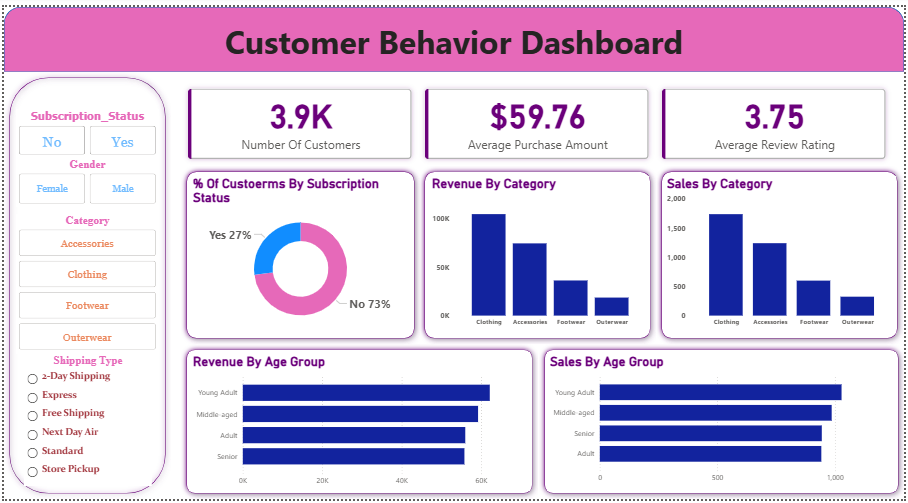

This screenshot's page, from the dashboard's own definition file:
{"tool":"powerbi","page":{"name":"Page 1","canvas":[1500,820],"ordinal":0},"visuals":[{"type":"cardVisual","fields":{"Data":["public customer.Number Of Customers","public customer.Average Purchase Amount","public customer.Average Review Rating"]},"box":[278.3,108.3,1221.7,173.3],"z":0},{"type":"shape","box":[0,0,1500,108.3],"z":1000},{"type":"textbox","box":[0,15,1500,93.3],"z":2000},{"type":"shape","box":[295,265,398.3,296.7],"z":3000,"group":"g5"},{"type":"donutChart","title":"% Of Custoerms By Subscription Status ","fields":{"Category":["public customer.subscription_status"],"Y":["CountNonNull(public customer.customer_id)"]},"box":[310,281.7,368.3,261.7],"z":4000,"group":"g5"},{"type":"shape","box":[691.7,265,395,296.7],"z":5000,"group":"g4"},{"type":"shape","box":[1086.7,265,411.7,296.7],"z":6000,"group":"g3"},{"type":"clusteredColumnChart","title":"Sales By Category ","fields":{"Y":["CountNonNull(public customer.customer_id)"],"Category":["public customer.category"]},"box":[1100,281.7,386.7,261.7],"z":7000,"group":"g3"},{"type":"clusteredColumnChart","title":"Revenue By Category ","fields":{"Y":["Sum(public customer.purchase_amount)"],"Category":["public customer.category"]},"box":[708.4,281.7,366.7,261.7],"z":8000,"group":"g4"},{"type":"shape","box":[0,108.3,278.3,711.7],"z":9000},{"type":"advancedSlicerVisual","fields":{"Values":["public customer.subscription_status"]},"box":[20,170,238.3,81.7],"z":10000},{"type":"advancedSlicerVisual","fields":{"Values":["public customer.gender"]},"box":[20,251.7,238.3,81.7],"z":11000},{"type":"advancedSlicerVisual","fields":{"Values":["public customer.category"]},"box":[20,345,238.3,233.3],"z":12000},{"type":"listSlicer","title":"Shipping Type","fields":{"Values":["public customer.shipping_type"]},"box":[33.3,578.3,213.3,220],"z":13000},{"type":"shape","box":[295,561.7,595,258.3],"z":15000,"group":"g1"},{"type":"shape","box":[891.7,561.7,608.3,258.3],"z":16000,"group":"g2"},{"type":"clusteredBarChart","title":"Sales By Age Group","fields":{"Y":["CountNonNull(public customer.customer_id)"],"Category":["public customer.age_group"]},"box":[905,578.4,578.3,223.3],"z":17000,"group":"g2"},{"type":"clusteredBarChart","title":"Revenue By Age Group","fields":{"Y":["Sum(public customer.purchase_amount)"],"Category":["public customer.age_group"]},"box":[310,578.4,566.7,228.3],"z":17500,"group":"g1"},{"type":"group","id":"g1","title":"Group 1","box":[295,561.7,595,258.3],"z":17501},{"type":"group","id":"g2","title":"Group 2","box":[891.7,561.7,608.3,258.3],"z":17502},{"type":"group","id":"g3","title":"Group 3","box":[1086.7,265,411.7,296.7],"z":17503},{"type":"group","id":"g4","title":"Group 4","box":[691.7,265,395,296.7],"z":17504},{"type":"group","id":"g5","title":"Group 5","box":[295,265,398.3,296.7],"z":17505}]}

Visuals, with their boxes in screenshot pixels (x1, y1, x2, y2), scaled from the page's 1500x820 canvas onto the 908x503 screenshot:
cardVisual - public customer.Number Of Customers x public customer.Average Purchase Amount: [x1=168, y1=66, x2=907, y2=173]
shape: [x1=0, y1=0, x2=907, y2=66]
textbox: [x1=0, y1=9, x2=907, y2=66]
shape: [x1=179, y1=163, x2=420, y2=345]
"% Of Custoerms By Subscription Status " donutChart: [x1=188, y1=173, x2=411, y2=333]
shape: [x1=419, y1=163, x2=658, y2=345]
shape: [x1=658, y1=163, x2=907, y2=345]
"Sales By Category " clusteredColumnChart: [x1=666, y1=173, x2=900, y2=333]
"Revenue By Category " clusteredColumnChart: [x1=429, y1=173, x2=651, y2=333]
shape: [x1=0, y1=66, x2=168, y2=502]
advancedSlicerVisual - public customer.subscription_status: [x1=12, y1=104, x2=156, y2=154]
advancedSlicerVisual - public customer.gender: [x1=12, y1=154, x2=156, y2=205]
advancedSlicerVisual - public customer.category: [x1=12, y1=212, x2=156, y2=355]
"Shipping Type" listSlicer: [x1=20, y1=355, x2=149, y2=490]
shape: [x1=179, y1=345, x2=539, y2=502]
shape: [x1=540, y1=345, x2=907, y2=502]
"Sales By Age Group" clusteredBarChart: [x1=548, y1=355, x2=898, y2=492]
"Revenue By Age Group" clusteredBarChart: [x1=188, y1=355, x2=531, y2=495]
"Group 1" group: [x1=179, y1=345, x2=539, y2=502]
"Group 2" group: [x1=540, y1=345, x2=907, y2=502]
"Group 3" group: [x1=658, y1=163, x2=907, y2=345]
"Group 4" group: [x1=419, y1=163, x2=658, y2=345]
"Group 5" group: [x1=179, y1=163, x2=420, y2=345]
